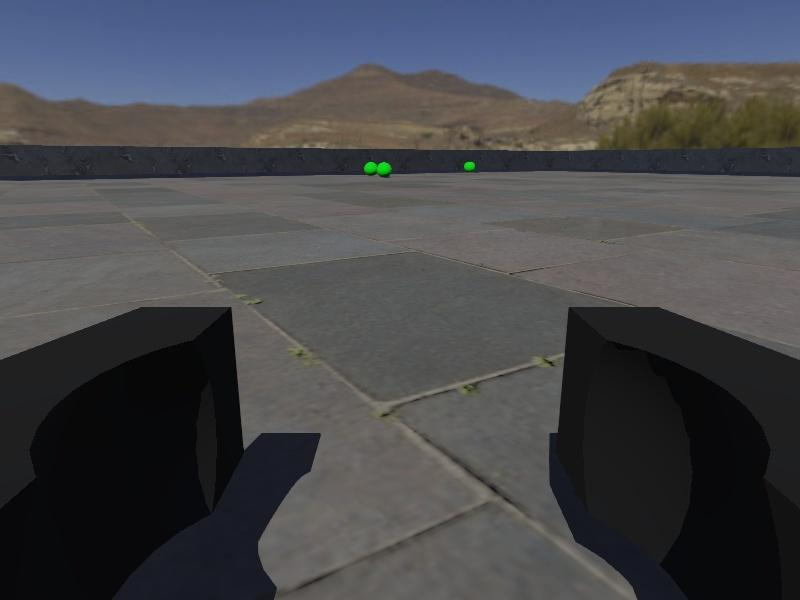green ball: (376, 161, 392, 177), (464, 160, 476, 172)
